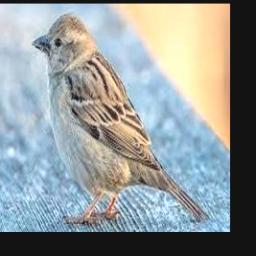Sparrow: (32, 12, 208, 224)
